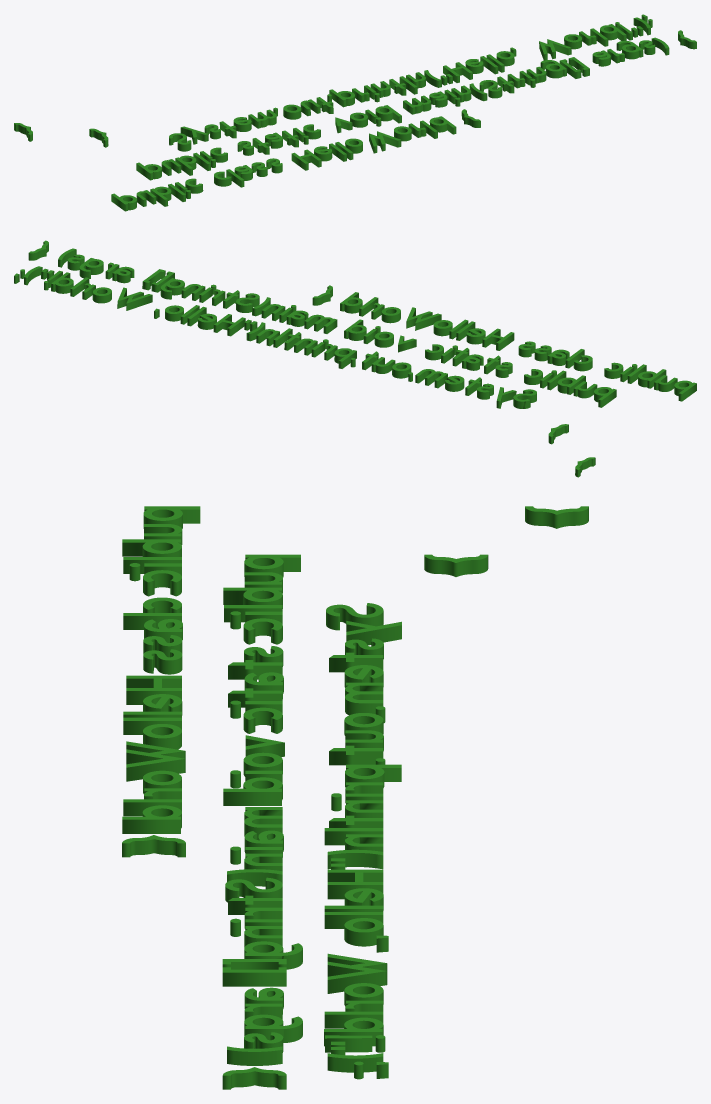
File: javaCode.glb
3 views of the same model, one above another, from view 1: azimuth 30°, elevation 25°; view 2: azimuth 150°, elevation 25°; view 3: azimuth 270°, elevation 25° (orthographic). The views are drawn at different scales.
Parts seen in each view (by area): view 1: Text.002; view 2: Text.002; view 3: Text.002.
Part boxes in pixels (x1,y1,x2,y2): Text.002: (14,14,696,211); Text.002: (14,240,696,477); Text.002: (122,506,588,1089).
Bounding box in the file's own units: 4.77 × 0.0853 × 1.63.
